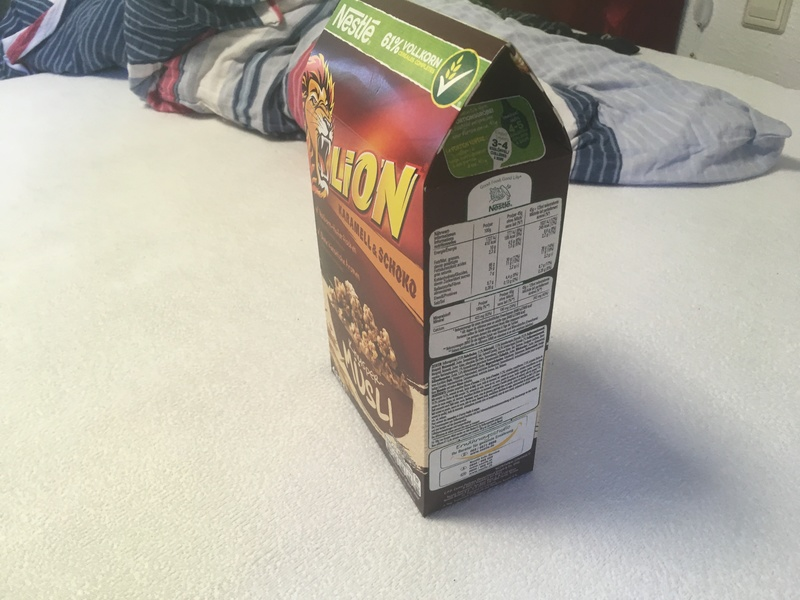cereals: (301, 1, 573, 518)
